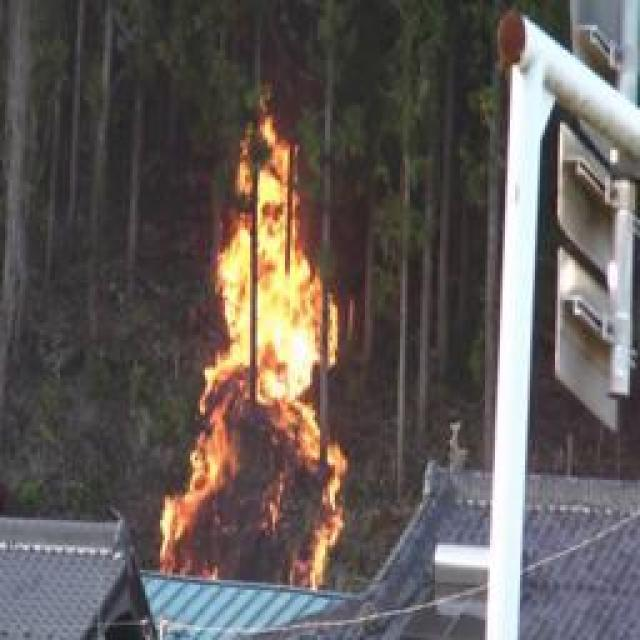Fire: (158, 103, 338, 584)
